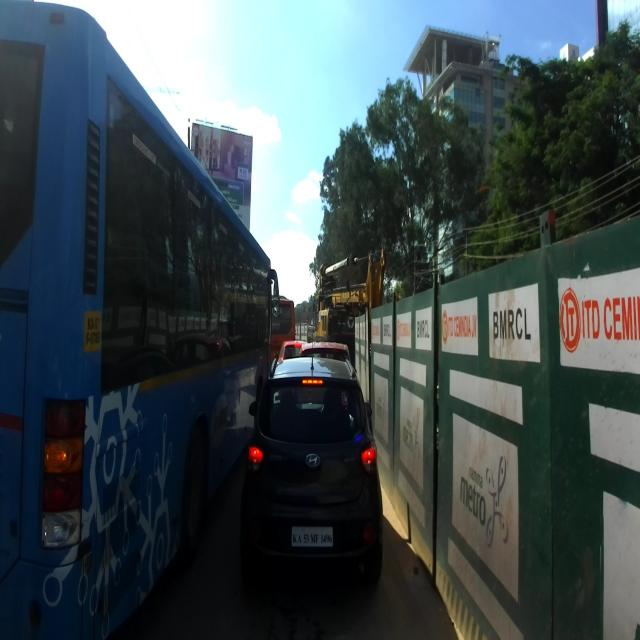Car_Hyundai: (240, 352, 382, 605)
bus: (0, 0, 292, 631)
